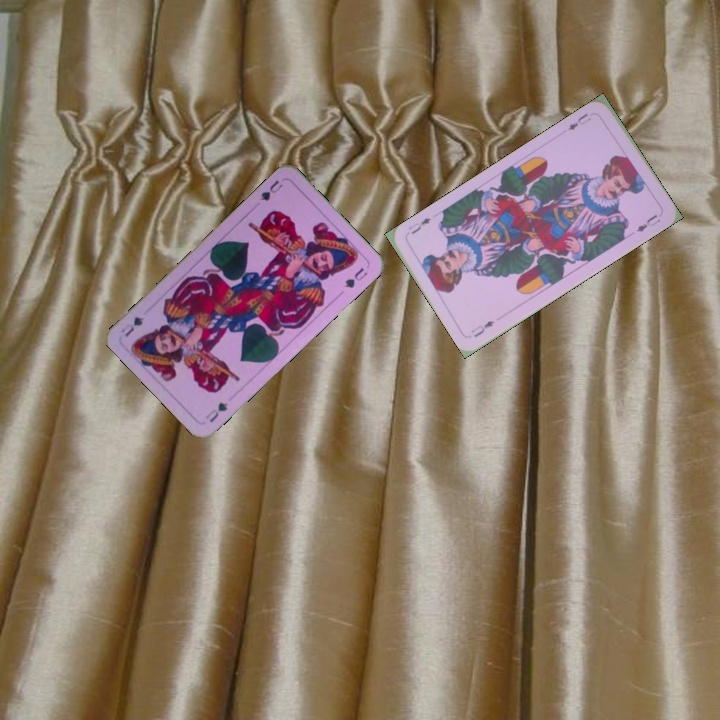EU: (564, 109, 594, 133), (467, 316, 497, 340)
GU: (256, 176, 285, 204), (202, 398, 231, 425)
